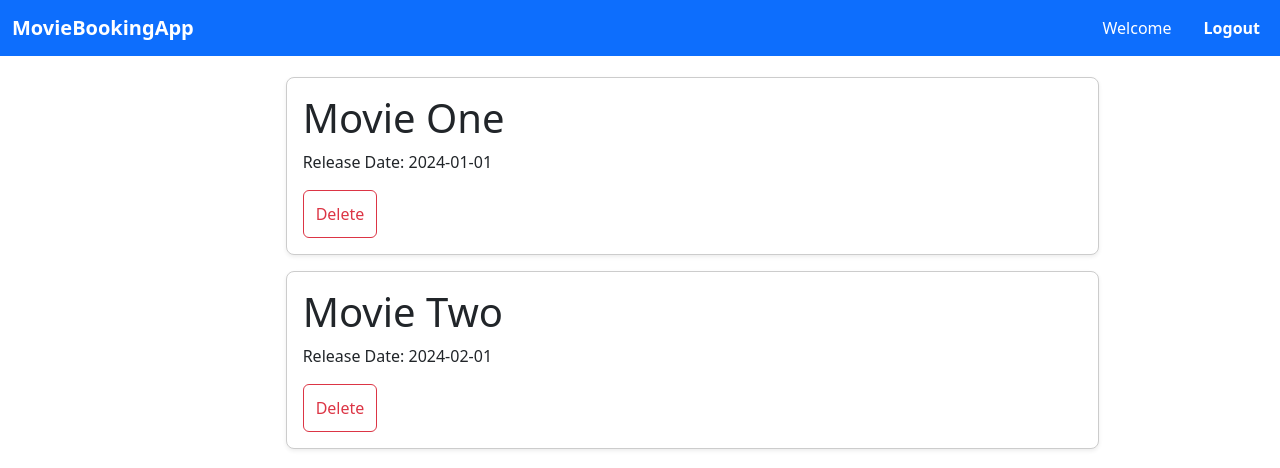
ManageMovies Component › deletes a movie
The image size is (1280, 468).
Expected: the heading "Movie One" is shown, x1=303 y1=90 x2=504 y2=145
Click the button "Delete" below "2024-01-01". click: [340, 214]
box: x1=303 y1=190 x2=377 y2=238
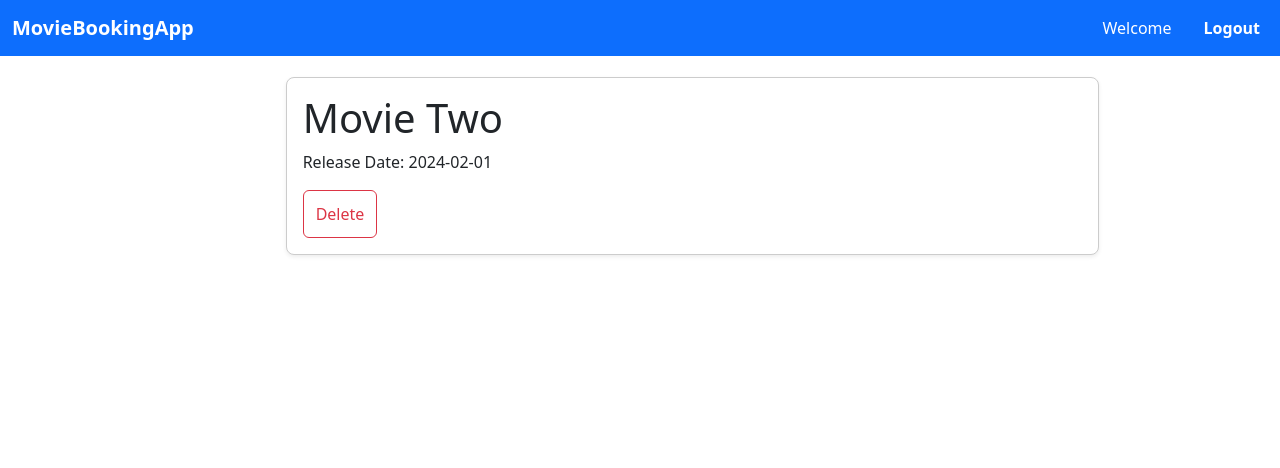
Expected: the heading "Movie One" is gone
